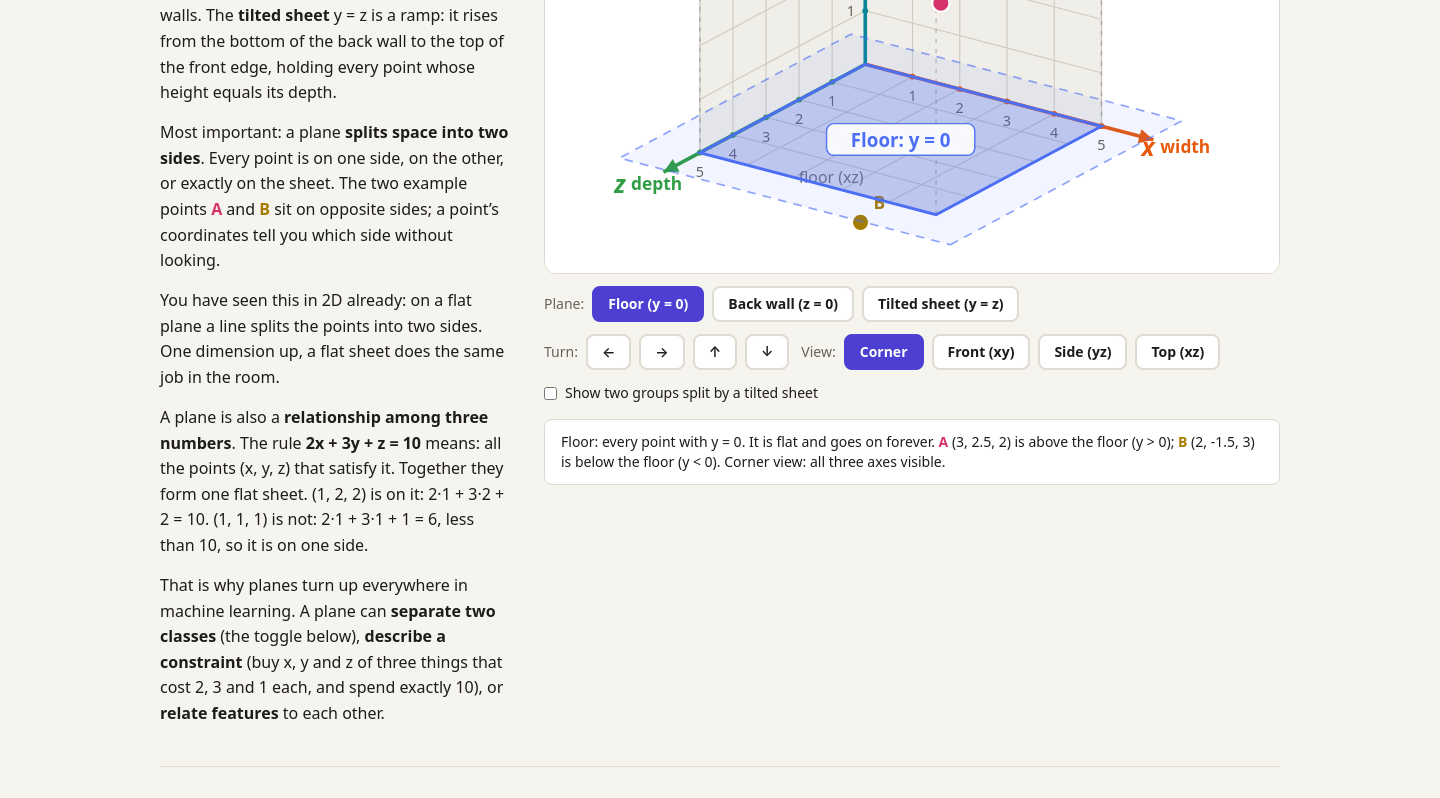
Test: the planes section of the lesson › the toggle shows two groups split by a tilted sheet, and turns the view
(page scrolled)
Step 1. Click the checkbox labelled "Show two groups split by a tilted sheet" → (550, 393), box left=544, top=387, right=557, bottom=400
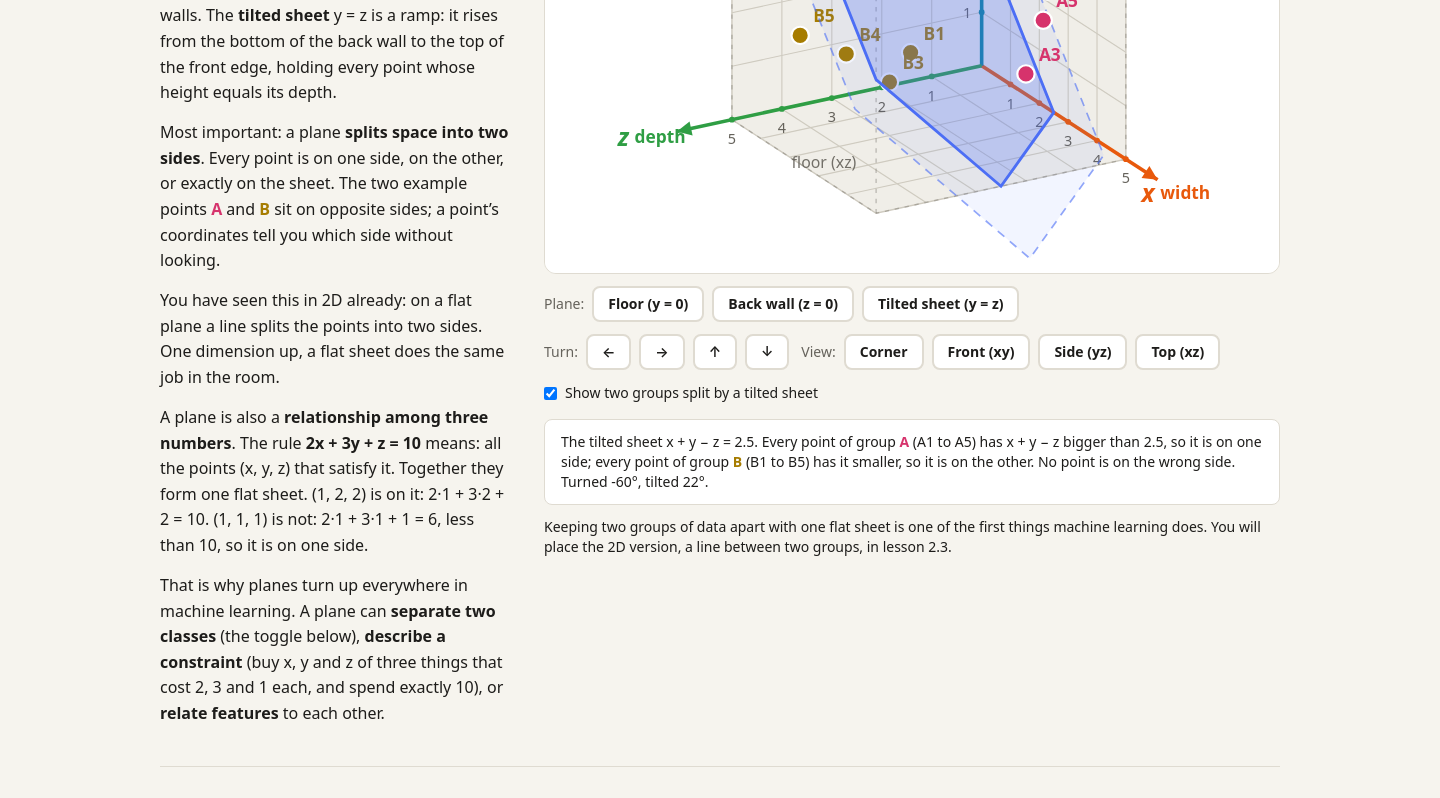
Result: the text "No point is on the wrong side" is shown at left=1038, top=452, right=1235, bottom=471
Result: the text "Turned -60°, tilted 22°" is shown at left=561, top=472, right=708, bottom=491
Result: the text "lesson 2.3" is shown at left=544, top=517, right=1261, bottom=556
